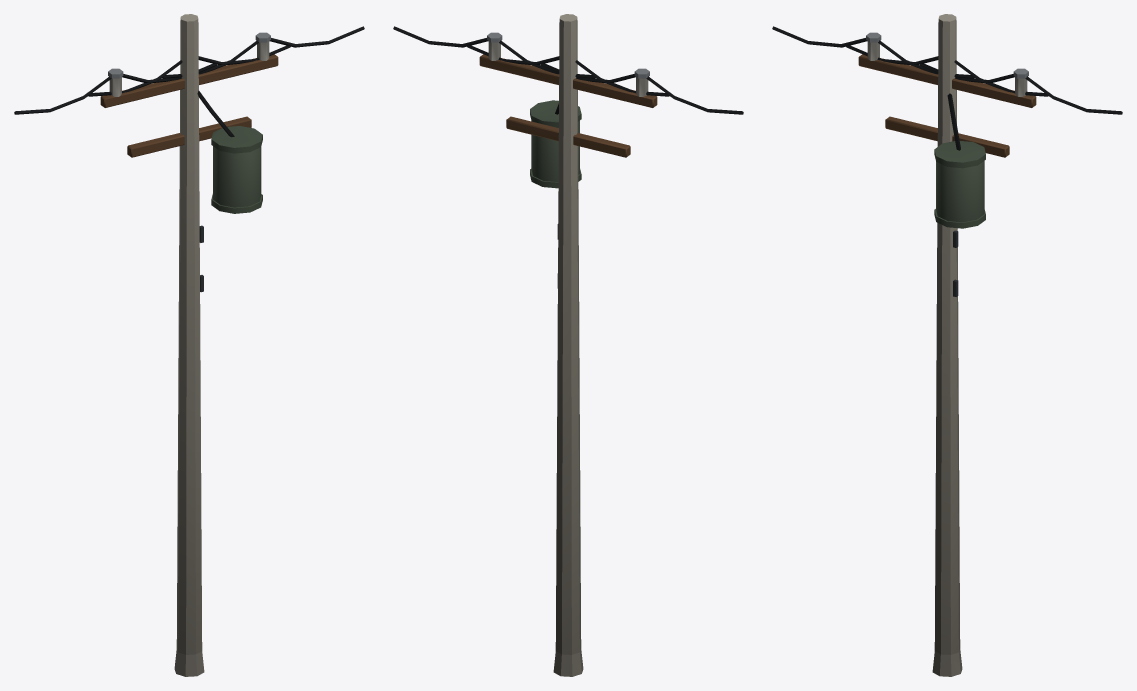
Rendered from poste_electrico.glb.
3 renders of one model, left to right at view 1: azimuth 30°, elevation 25°; view 2: azimuth 150°, elevation 25°; view 3: azimuth 330°, elevation 25°, orthographic.
Parts seen in each view (by area): view 1: poste_electrico; view 2: poste_electrico; view 3: poste_electrico.
Part boxes in pixels (box(x1,y1,x2,y2)): poste_electrico: box(14, 14, 364, 676); poste_electrico: box(393, 14, 743, 676); poste_electrico: box(772, 14, 1122, 676).
Bounding box in the file's own units: 5.21 × 9.3 × 0.99.
